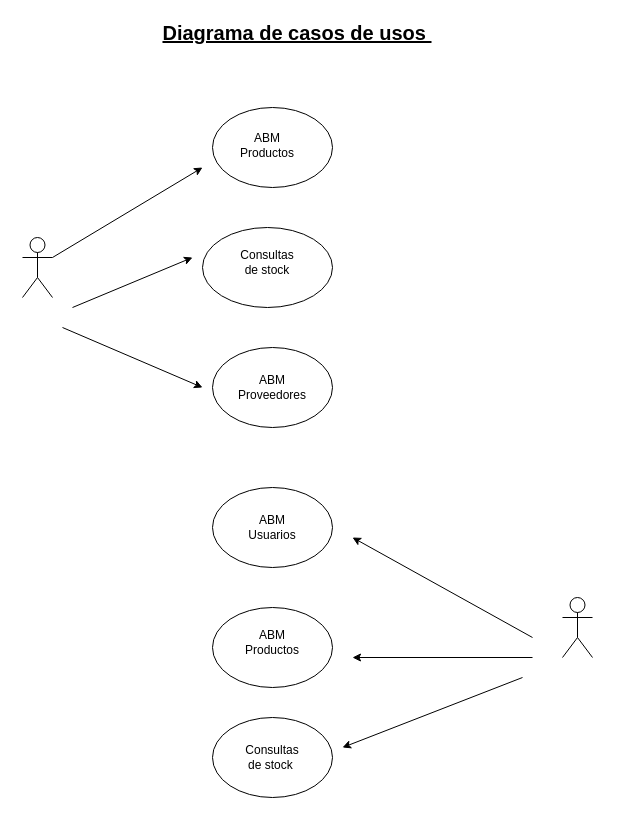
The diagram is 632 pixels wide and 815 high, and some of its shapes have lost their labels. The shapes that lost their labels are listed below. From the top down, each one's centre as x and y in pixels, then its label:
[37,267]: Usuario
[577,627]: Administrador
